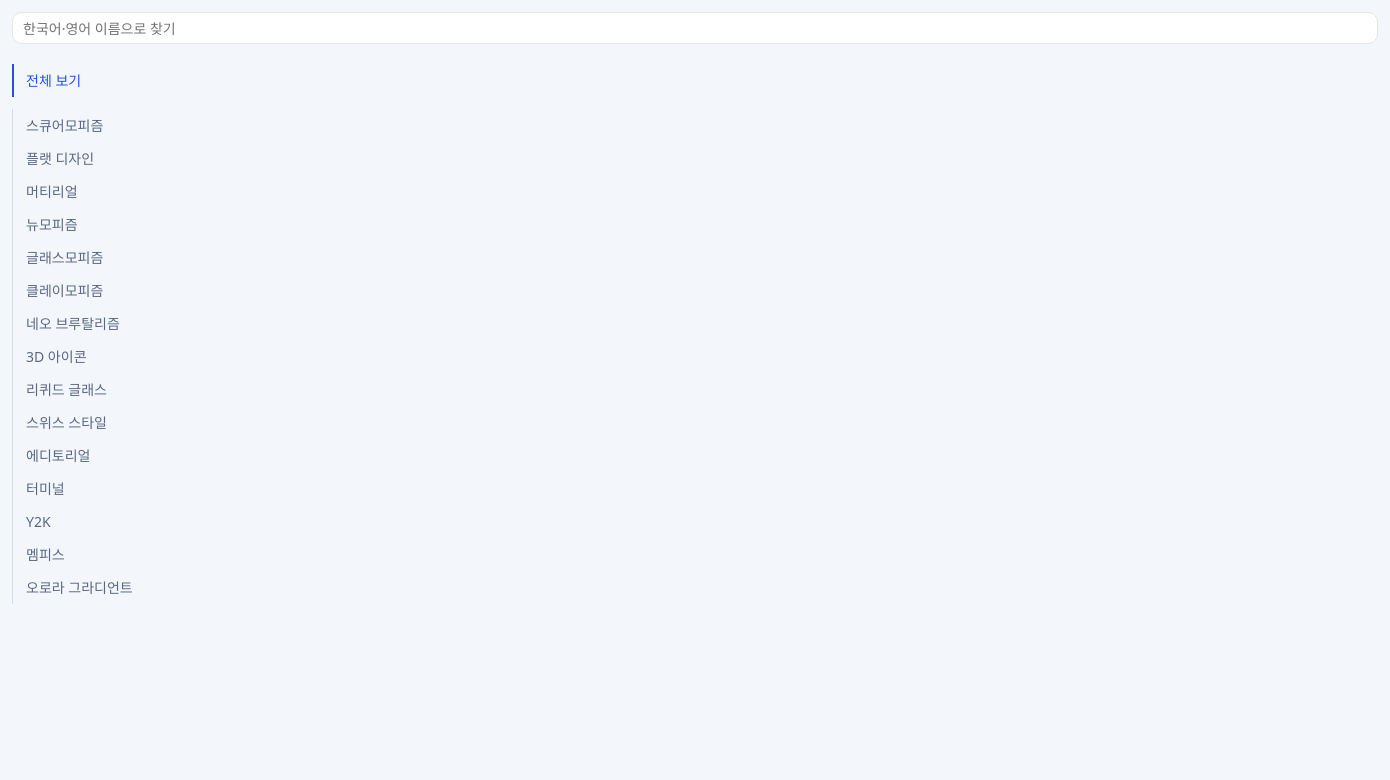
Test: StyleNav › searches styles by Korean, English or other names
The image size is (1390, 780).
Type "soft ui" into the search field named "스타일 검색". click: x=695, y=28
box: [12, 12, 1378, 44]
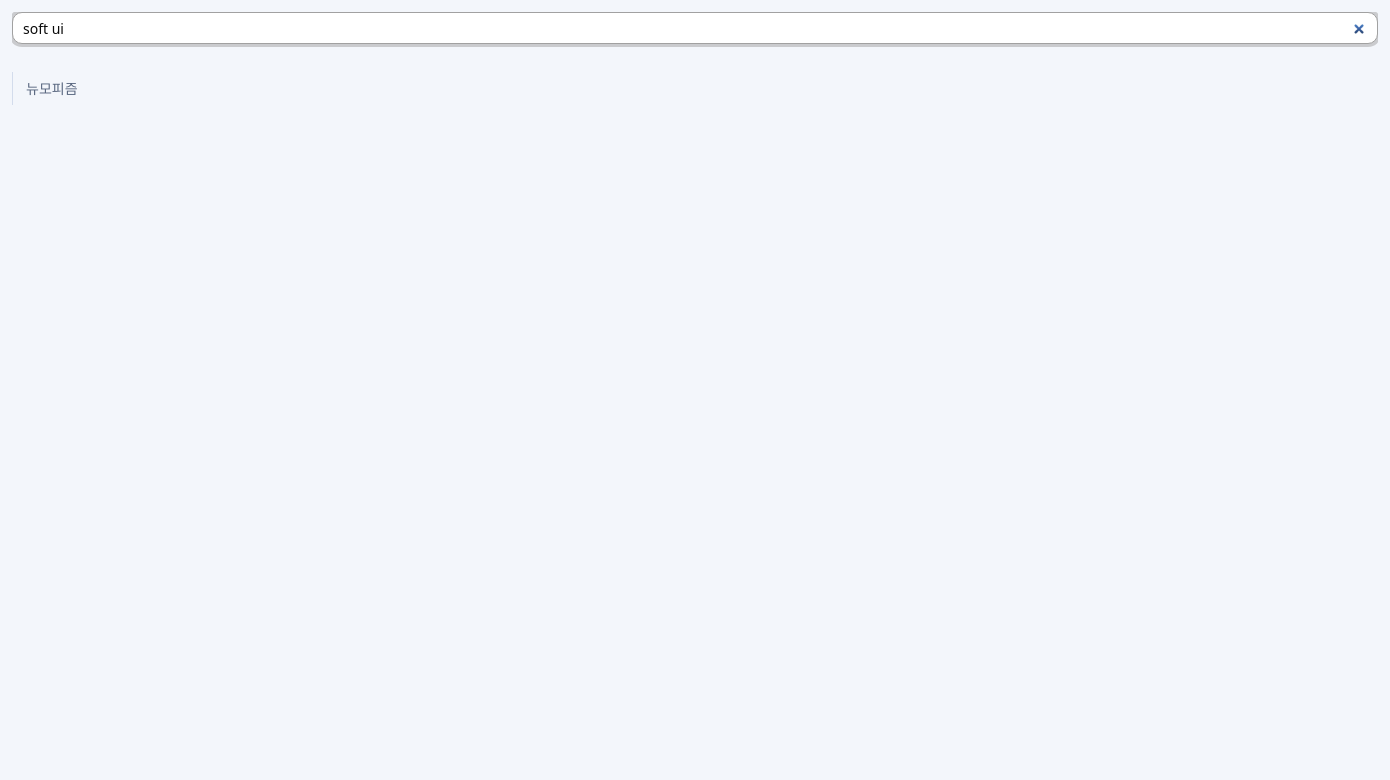
Expected: the links read "뉴모피즘", in this order, [26, 79, 78, 98]
